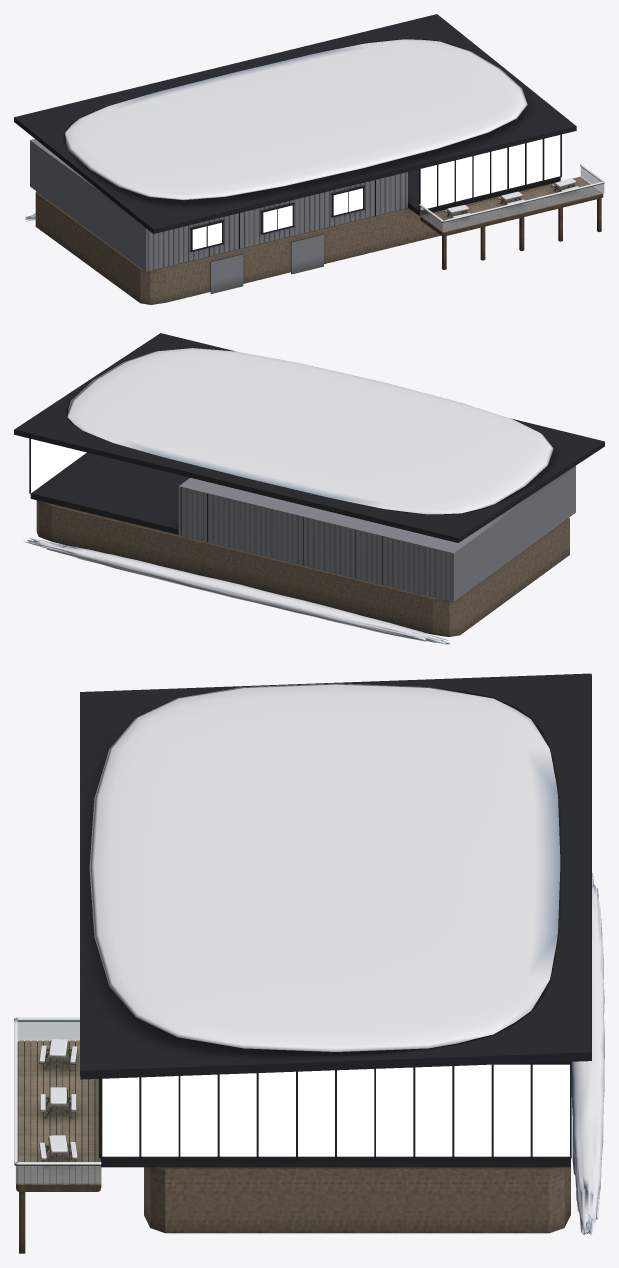
Rendered from alfs.glb.
The picture shows the model from 3 angles, top to bottom: view 1: azimuth 30°, elevation 25°; view 2: azimuth 150°, elevation 25°; view 3: azimuth 270°, elevation 25°; orthographic projection. The views are drawn at different scales.
Visible parts, largest first — view 1: alfs, alfs_snow, alfs_lit, alfs_glass; view 2: alfs, alfs_snow, alfs_lit; view 3: alfs_snow, alfs, alfs_lit, alfs_glass.
Part boxes in pixels (x1,y1,x2,y2): alfs: [14, 14, 604, 304]; alfs_snow: [24, 39, 604, 222]; alfs_lit: [192, 135, 560, 249]; alfs_glass: [420, 167, 604, 232]; alfs: [14, 333, 604, 636]; alfs_snow: [23, 348, 553, 644]; alfs_lit: [31, 439, 86, 492]; alfs_snow: [14, 683, 604, 1235]; alfs: [14, 673, 591, 1253]; alfs_lit: [102, 1064, 569, 1156]; alfs_glass: [15, 1021, 101, 1184].
Size of the model in its own units: 43.09 by 10.35 by 27.69.
4 materials, 1 textured.
